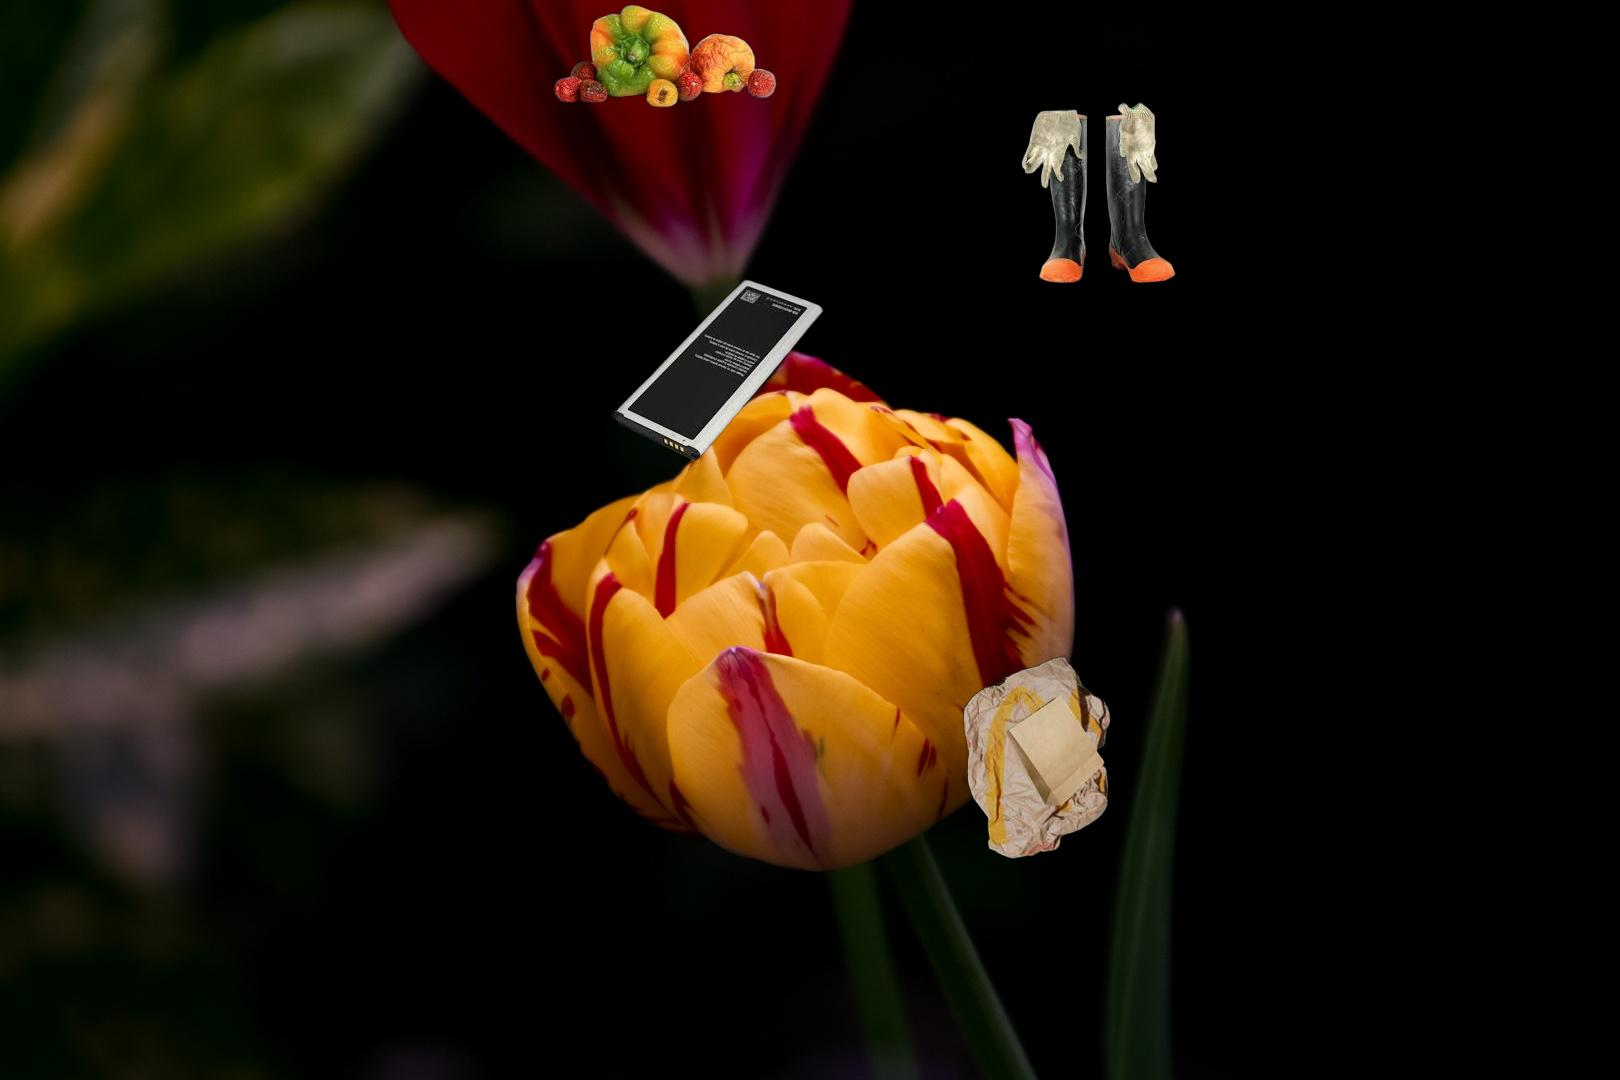battery: (610, 277, 826, 463)
biological: (552, 2, 779, 110)
paper-bag: (962, 653, 1113, 862)
shoes: (1019, 98, 1178, 286)
